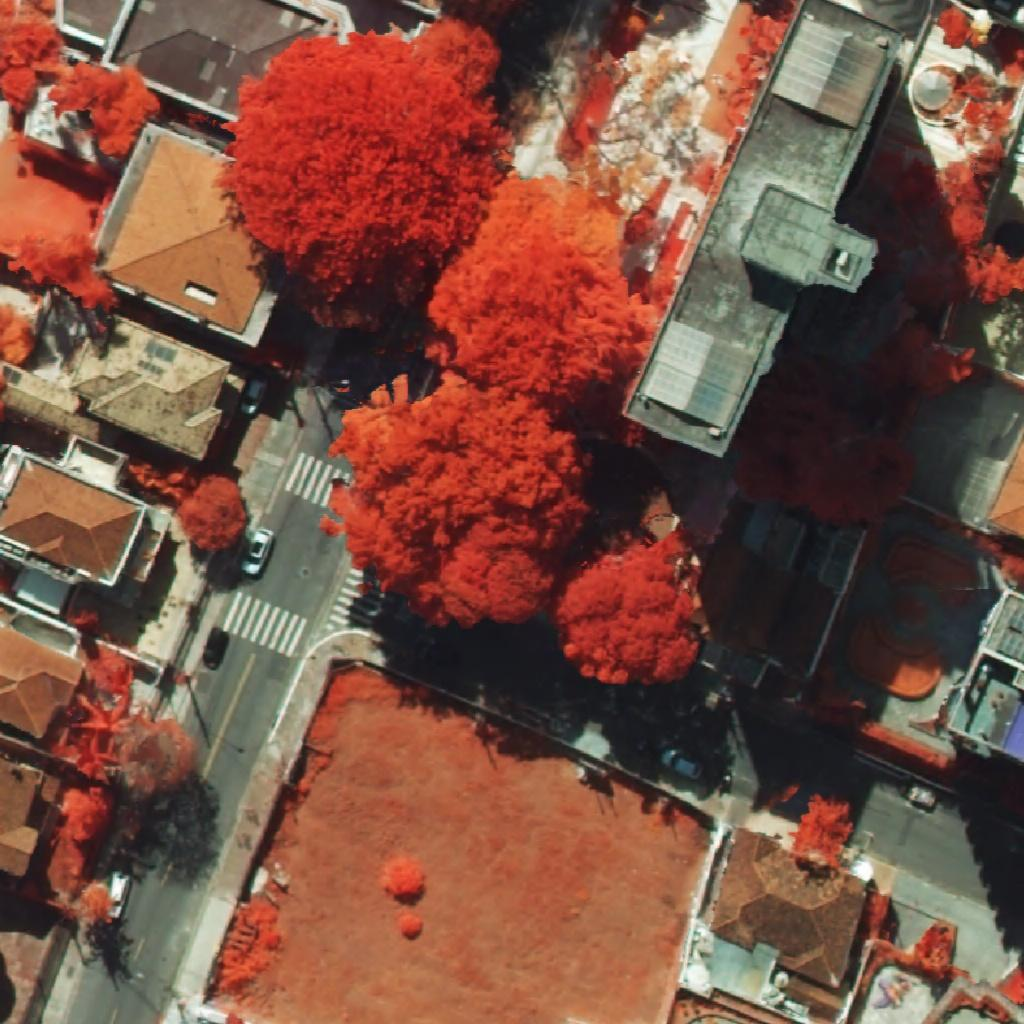pool: (1003, 702, 1024, 758)
